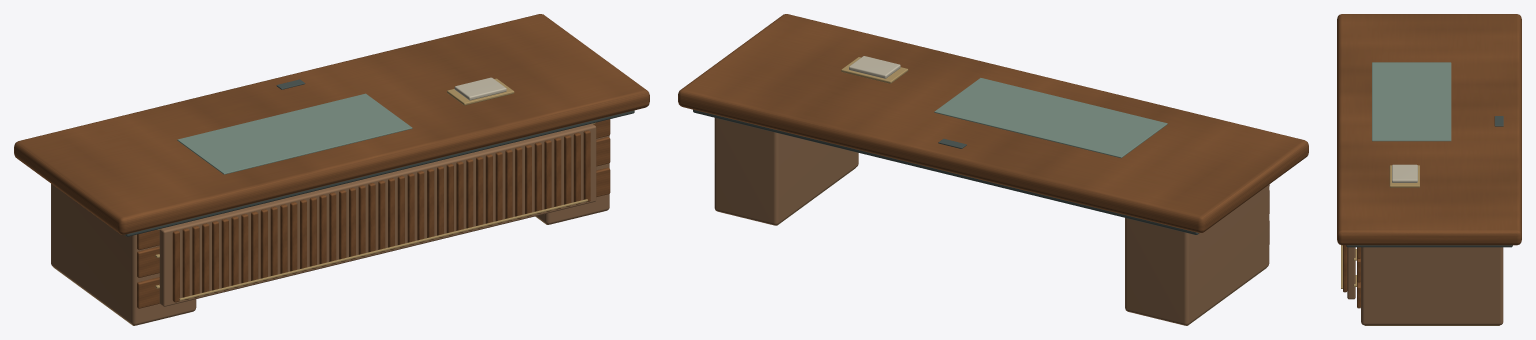
Rendered from hq-executive-joinery.glb.
3 renders of one model, left to right at view 1: azimuth 30°, elevation 25°; view 2: azimuth 150°, elevation 25°; view 3: azimuth 270°, elevation 25°, orthographic. The views are drawn at different scales.
Visible parts, largest first — view 1: executive_Warm oak - original grain, executive_Oak end grain, executive_Sage acoustic felt, executive_Powder coated charcoal, executive_Satin brass, executive_Cream leather desk pad; view 2: executive_Warm oak - original grain, executive_Oak end grain, executive_Sage acoustic felt, executive_Powder coated charcoal, executive_Cream leather desk pad, executive_Satin brass; view 3: executive_Warm oak - original grain, executive_Oak end grain, executive_Sage acoustic felt, executive_Powder coated charcoal, executive_Satin brass, executive_Cream leather desk pad.
Part boxes in pixels (bbox=[...]): executive_Warm oak - original grain: bbox=[14, 14, 649, 308]; executive_Oak end grain: bbox=[51, 123, 609, 325]; executive_Sage acoustic felt: bbox=[177, 93, 412, 174]; executive_Powder coated charcoal: bbox=[125, 79, 634, 236]; executive_Satin brass: bbox=[53, 78, 595, 325]; executive_Cream leather desk pad: bbox=[454, 77, 506, 100]; executive_Warm oak - original grain: bbox=[678, 14, 1308, 244]; executive_Oak end grain: bbox=[714, 118, 1269, 325]; executive_Sage acoustic felt: bbox=[934, 78, 1167, 158]; executive_Powder coated charcoal: bbox=[693, 109, 1199, 234]; executive_Cream leather desk pad: bbox=[849, 56, 900, 78]; executive_Satin brass: bbox=[775, 57, 1266, 325]; executive_Warm oak - original grain: bbox=[1337, 14, 1521, 308]; executive_Oak end grain: bbox=[1347, 247, 1503, 325]; executive_Sage acoustic felt: bbox=[1372, 62, 1451, 141]; executive_Powder coated charcoal: bbox=[1346, 116, 1512, 247]; executive_Satin brass: bbox=[1341, 165, 1499, 325]; executive_Cream leather desk pad: bbox=[1392, 164, 1417, 182].
Size of the model in its own units: 3.8 by 0.8995 by 1.35.
Materials: 6 (1 with a texture image).
